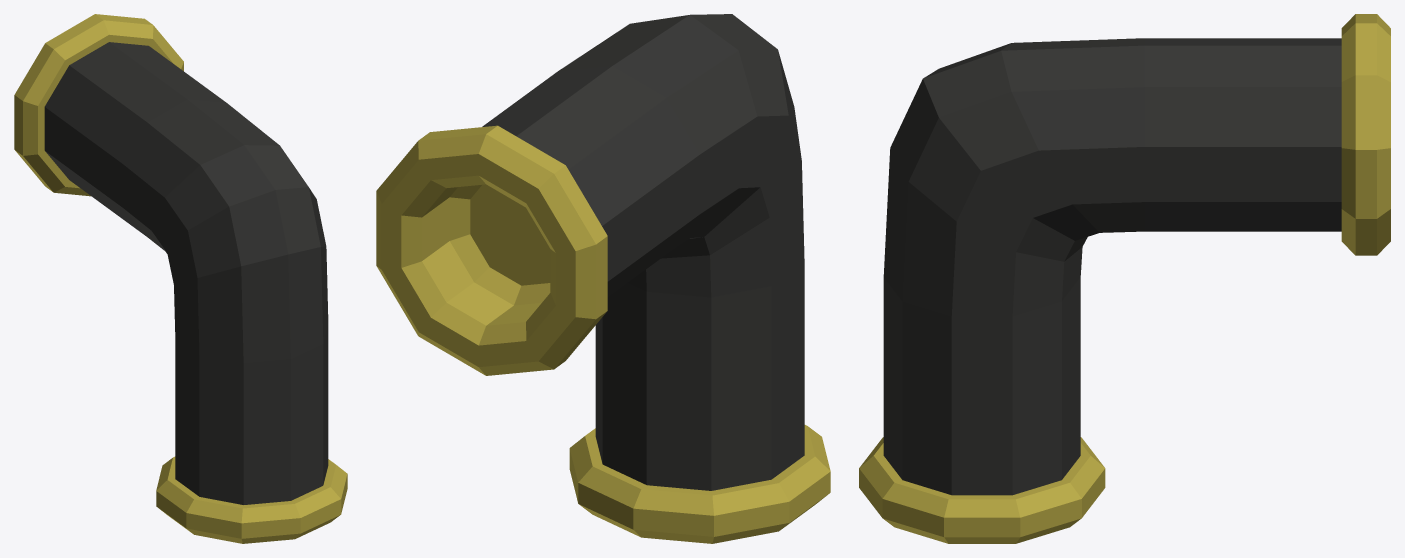
File: CanoCantoLowPoly.fbx
The picture shows the model from 3 angles, left to right: view 1: azimuth 30°, elevation 25°; view 2: azimuth 150°, elevation 25°; view 3: azimuth 270°, elevation 25°; orthographic projection. The views are drawn at different scales.
Visible parts, largest first — view 1: CanoCanto; view 2: CanoCanto; view 3: CanoCanto.
Part boxes in pixels (x1,y1,x2,y2): CanoCanto: (14, 14, 347, 543); CanoCanto: (376, 14, 830, 543); CanoCanto: (859, 14, 1390, 543).
Size of the model in its own units: 238 by 534 by 540.
